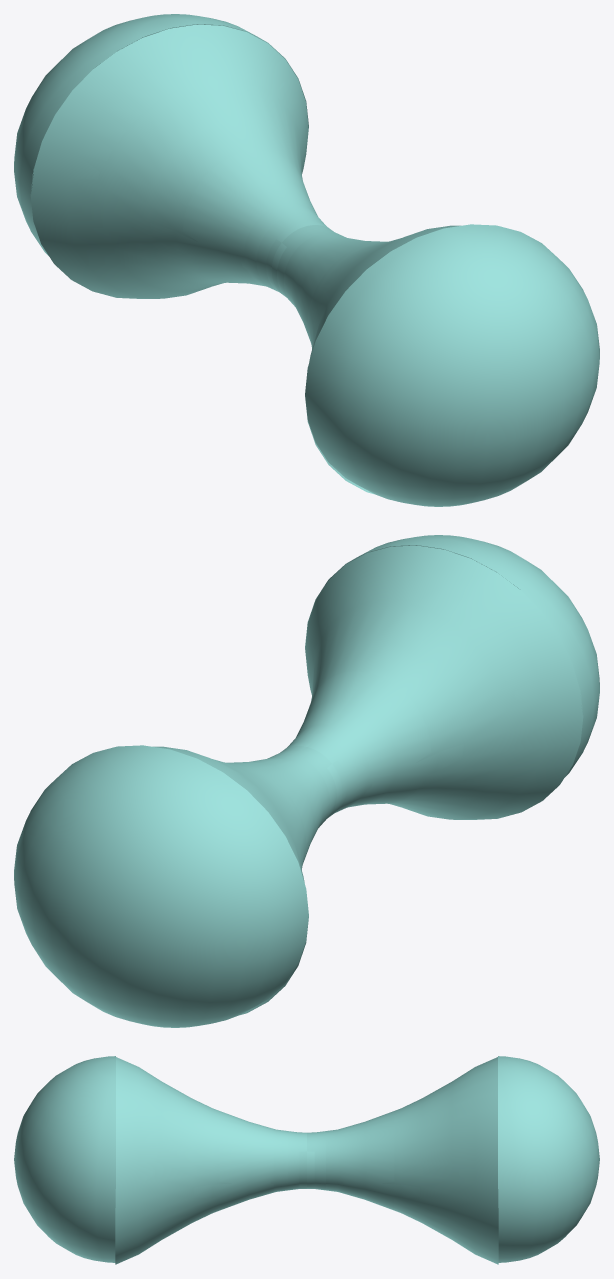
File: para 1 y 0.fbx
The picture shows the model from 3 angles, top to bottom: view 1: azimuth 30°, elevation 25°; view 2: azimuth 150°, elevation 25°; view 3: azimuth 270°, elevation 25°; orthographic projection. The views are drawn at different scales.
Parts seen in each view (by area): view 1: Cylinder; view 2: Cylinder; view 3: Cylinder.
Boxes of the visible parts, left/top/right/bottom form: Cylinder: left=14, top=14, right=599, bottom=506; Cylinder: left=14, top=535, right=599, bottom=1027; Cylinder: left=14, top=1056, right=599, bottom=1264.
Size of the model in its own units: 2.6 by 2.39 by 6.8.
